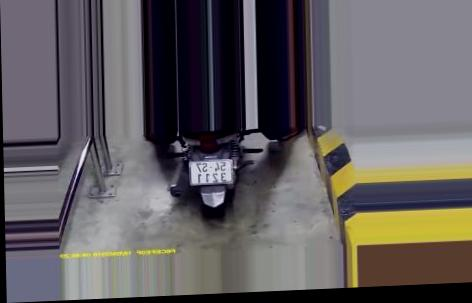License_Plate: (187, 156, 236, 191)
